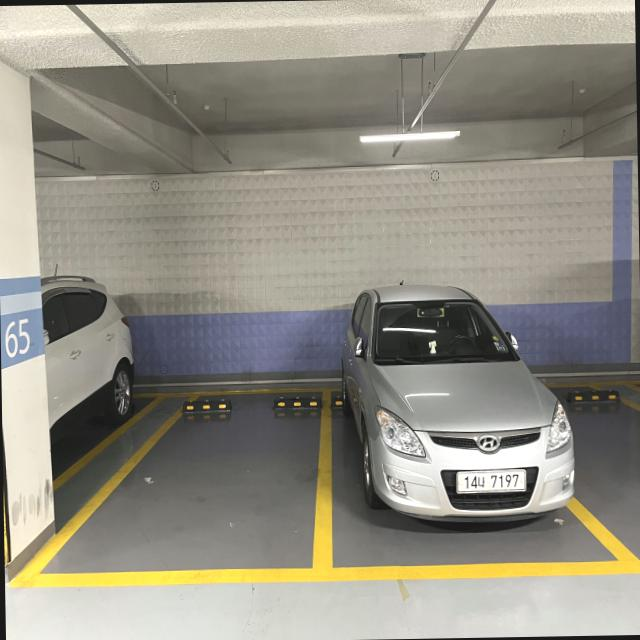car: (320, 257, 566, 547)
free: (6, 390, 332, 607), (566, 390, 640, 582)
